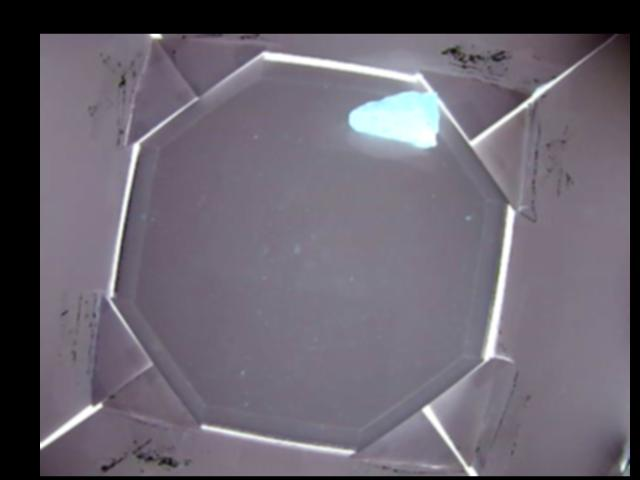Brisk: (348, 89, 440, 147)
